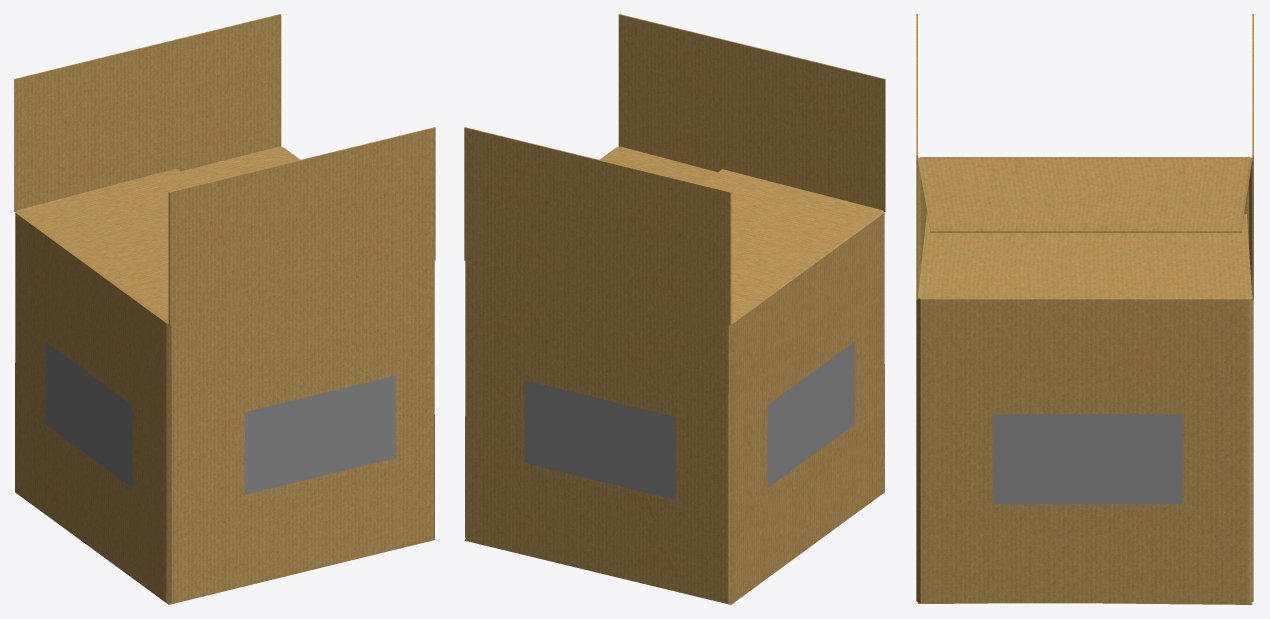
The model's file is cardboard.FBX.
3 renders of one model, left to right at view 1: azimuth 30°, elevation 25°; view 2: azimuth 150°, elevation 25°; view 3: azimuth 270°, elevation 25°, orthographic. The views are drawn at different scales.
Visible parts, largest first — view 1: Plane003, Object001, Object004; view 2: Plane003, Object004, Object001; view 3: Plane003, Object001, Object004.
Part boxes in pixels (x1,y1,x2,y2): Plane003: [15, 146, 434, 604]; Object001: [168, 127, 435, 325]; Object004: [14, 14, 281, 212]; Plane003: [465, 146, 884, 604]; Object004: [464, 127, 731, 325]; Object001: [618, 14, 885, 212]; Plane003: [916, 157, 1253, 604]; Object001: [916, 14, 917, 299]; Object004: [1252, 14, 1253, 299].
Size of the model in its own units: 102 by 149 by 102.
2 materials, 1 textured.
